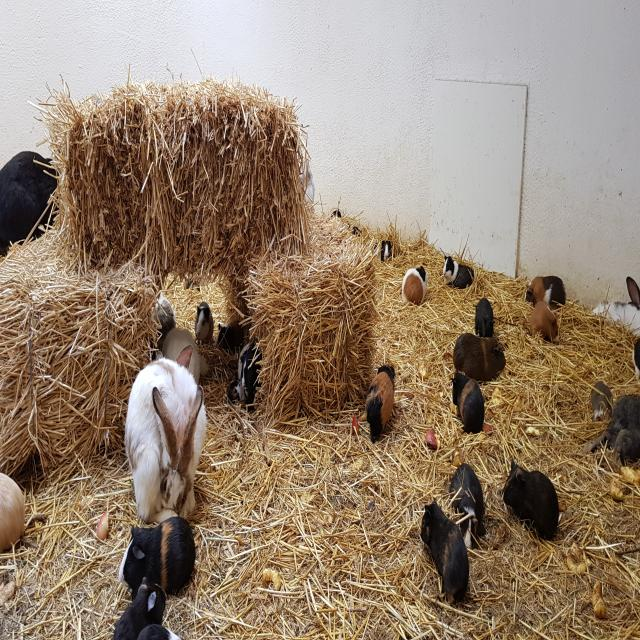guinea pig: (117, 511, 197, 599), (419, 495, 470, 609), (496, 456, 560, 544), (104, 574, 168, 638), (447, 458, 487, 552), (450, 330, 508, 385), (448, 368, 487, 437), (365, 362, 396, 446), (520, 298, 563, 346), (520, 270, 570, 308), (211, 314, 248, 356), (588, 375, 616, 429), (239, 338, 263, 395), (441, 252, 476, 291), (400, 262, 430, 307), (474, 294, 497, 342), (193, 297, 214, 348), (226, 381, 247, 407), (380, 235, 393, 264)
